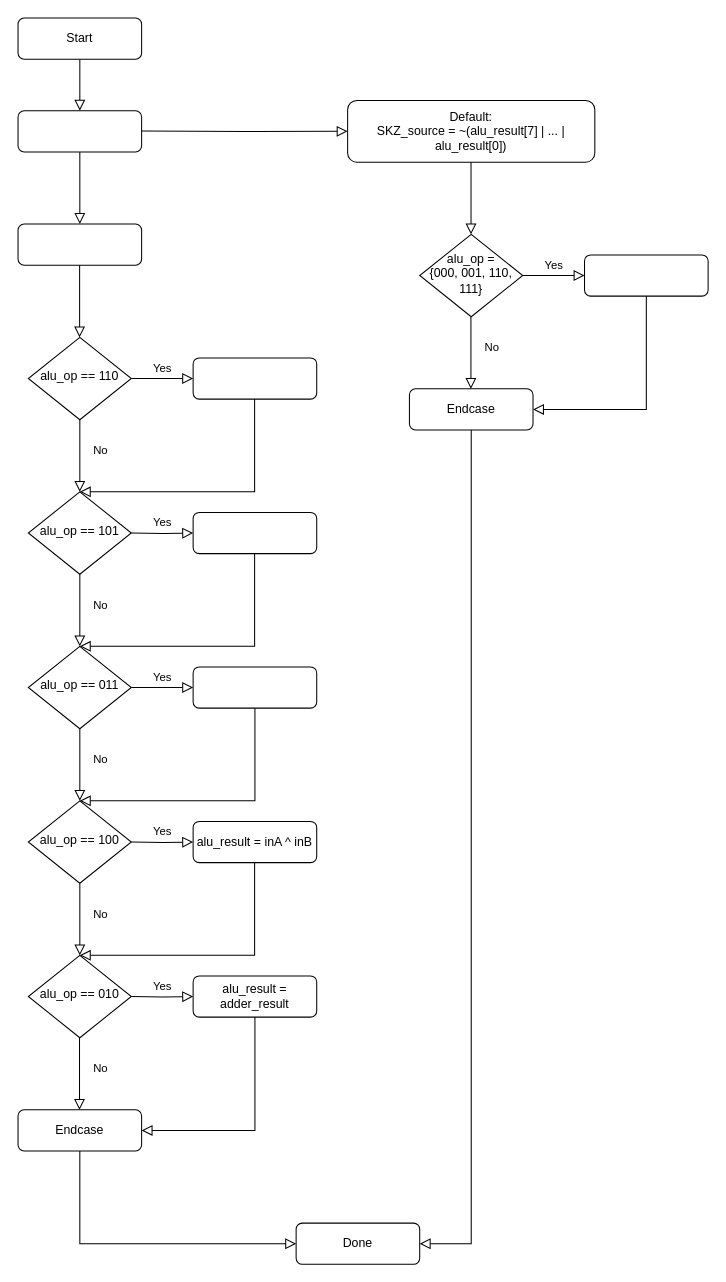
Image size: 726x1282. Some labels were removed from this diagram. The centre of each missing label's shape, as x and y in pixels:
"alu_result = inA" goes at point 254,378.
"alu_result = inA & inB" goes at point 254,687.
"alu_result = inB" goes at point 254,532.
"Case alu_op" goes at point 79,131.
"Default: adu_result = inA" goes at point 79,244.
"SKZ_source = ~(inA[7] | ... | inA[0])" goes at point 645,275.
